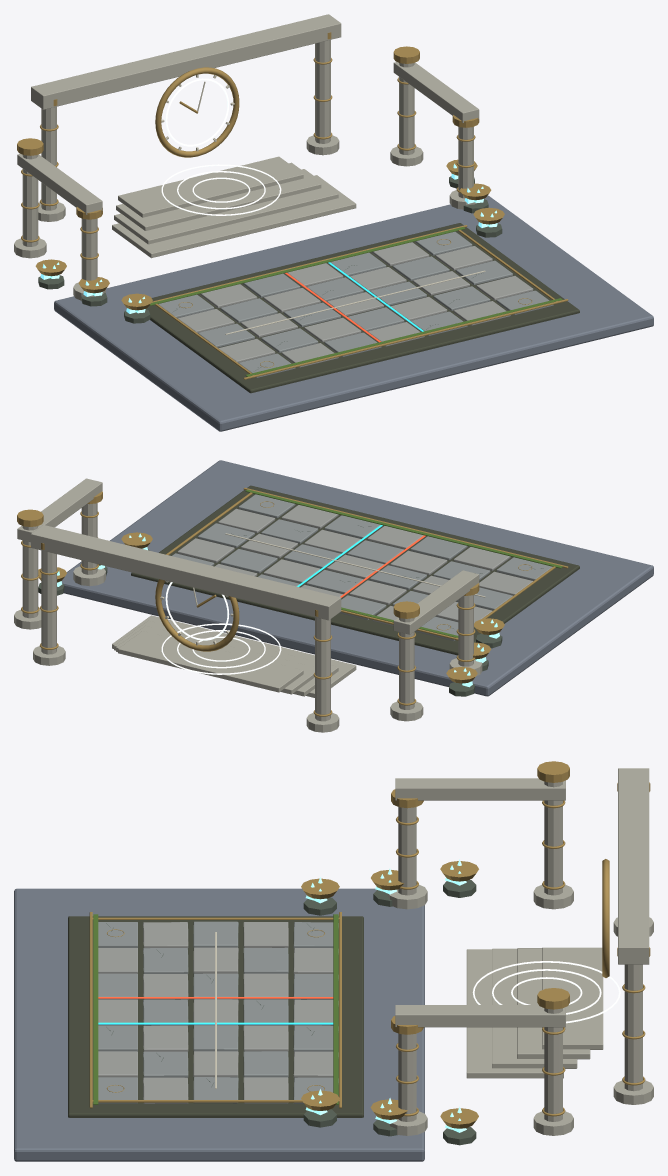
File: forgotten_sanctuary.glb
The picture shows the model from 3 angles, top to bottom: view 1: azimuth 30°, elevation 25°; view 2: azimuth 150°, elevation 25°; view 3: azimuth 270°, elevation 25°; orthographic projection. The views are drawn at different scales.
Parts seen in each view (by area): view 1: Architecture, BattleMeadow, ArenaTiles, ArenaBase, ArenaBorders, Energy, Props, ArenaLaneLines; view 2: Architecture, BattleMeadow, ArenaTiles, ArenaBase, ArenaBorders, Energy, Props, ArenaLaneLines; view 3: BattleMeadow, Architecture, ArenaTiles, ArenaBase, ArenaBorders, Energy, Props, ArenaLaneLines.
Boxes of the visible parts, x1,y1,x2,y2 form: Architecture: (14,14,479,300); BattleMeadow: (54,195,653,431); ArenaTiles: (158,231,553,378); ArenaBase: (145,223,579,393); ArenaBorders: (149,225,568,379); Energy: (38,163,502,323); Props: (35,159,504,310); ArenaLaneLines: (225,262,485,342); Architecture: (14,478,482,732); BattleMeadow: (61,460,653,696); ArenaTiles: (172,494,552,640); ArenaBase: (131,485,579,655); ArenaBorders: (166,487,568,640); Energy: (38,533,502,696); Props: (38,532,504,683); ArenaLaneLines: (225,525,485,597); BattleMeadow: (14,888,424,1161); Architecture: (387,761,653,1135); ArenaTiles: (98,921,338,1103); ArenaBase: (68,916,363,1117); ArenaBorders: (89,912,341,1108); Energy: (303,859,620,1145); Props: (301,861,478,1128); ArenaLaneLines: (98,932,333,1088).
Size of what is drawn, in the model's own units: 17.92 by 5.52 by 18.38.
